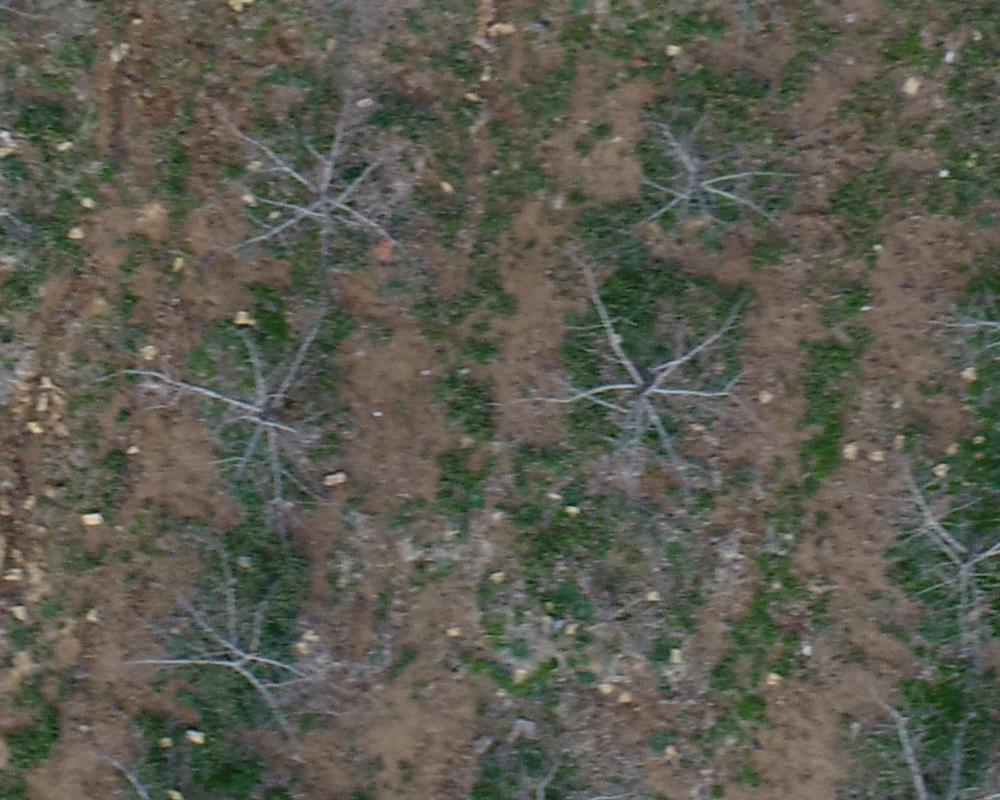apple: (77, 538, 409, 754), (95, 314, 411, 529), (530, 246, 784, 475), (205, 84, 464, 304), (586, 104, 834, 255), (841, 429, 990, 673)
